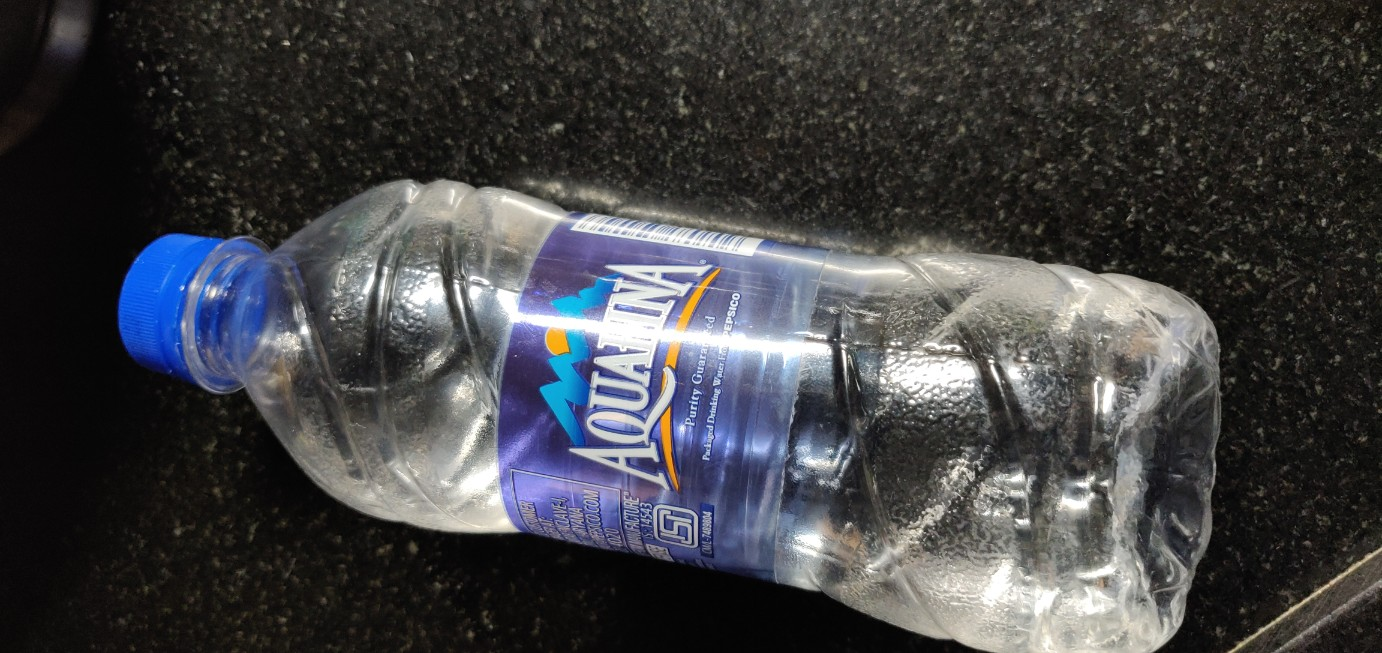Electronics: (97, 140, 1240, 653)
